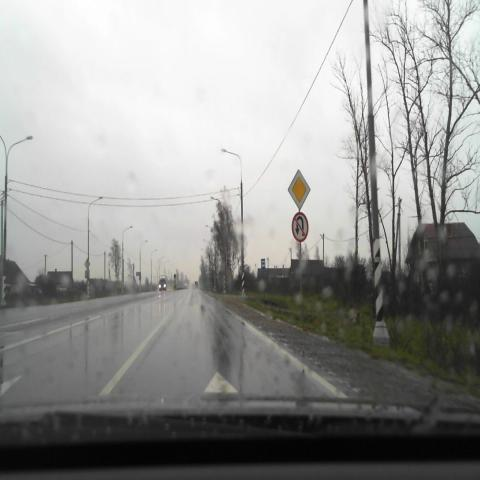3_19: (292, 212, 308, 241)
